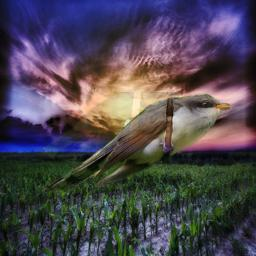Cuckoo: (38, 92, 230, 193)
